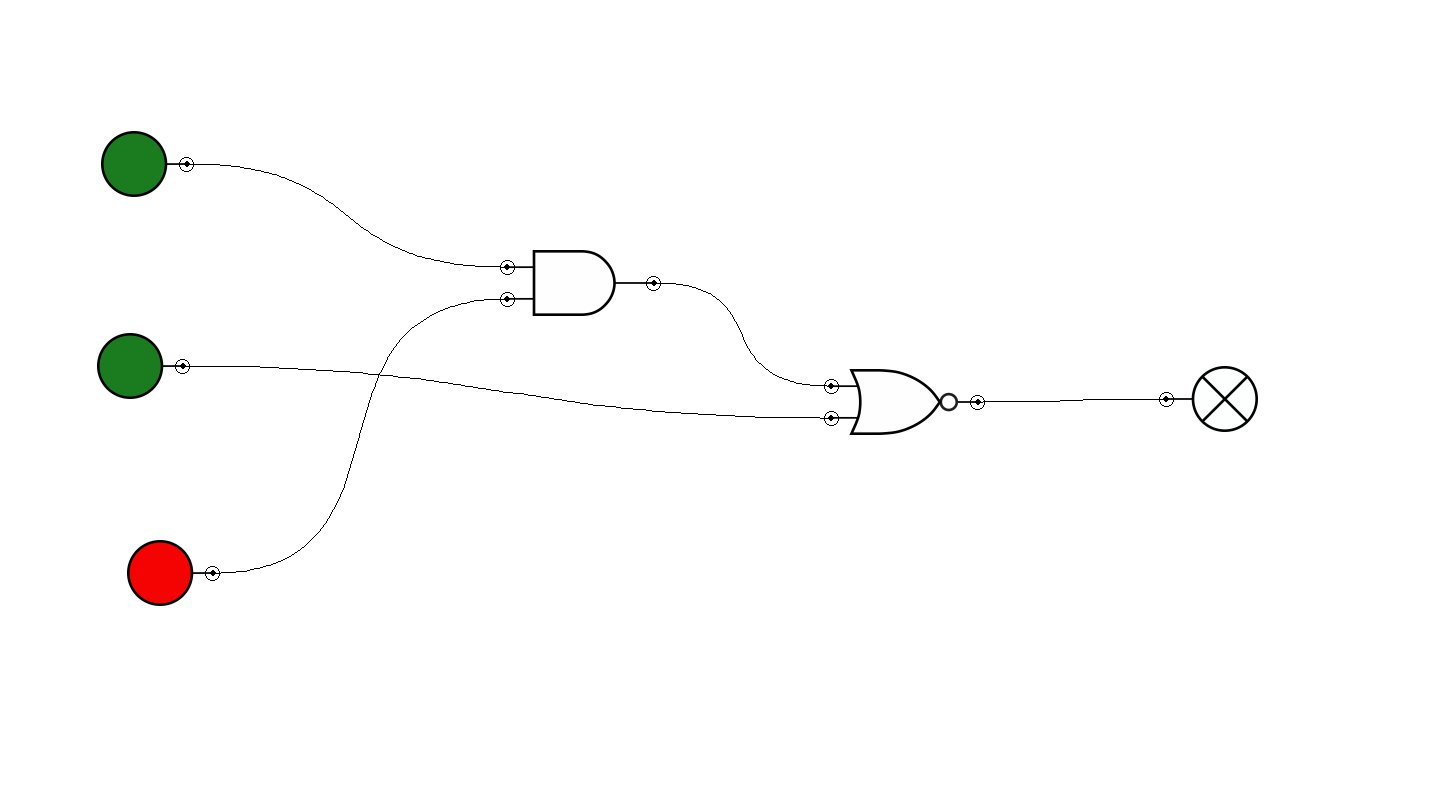and: (500, 250, 661, 316)
bulb: (1159, 366, 1258, 432)
nor: (824, 369, 985, 435)
switch_False: (127, 540, 220, 606)
switch_True: (101, 131, 194, 197), (97, 333, 190, 399)
